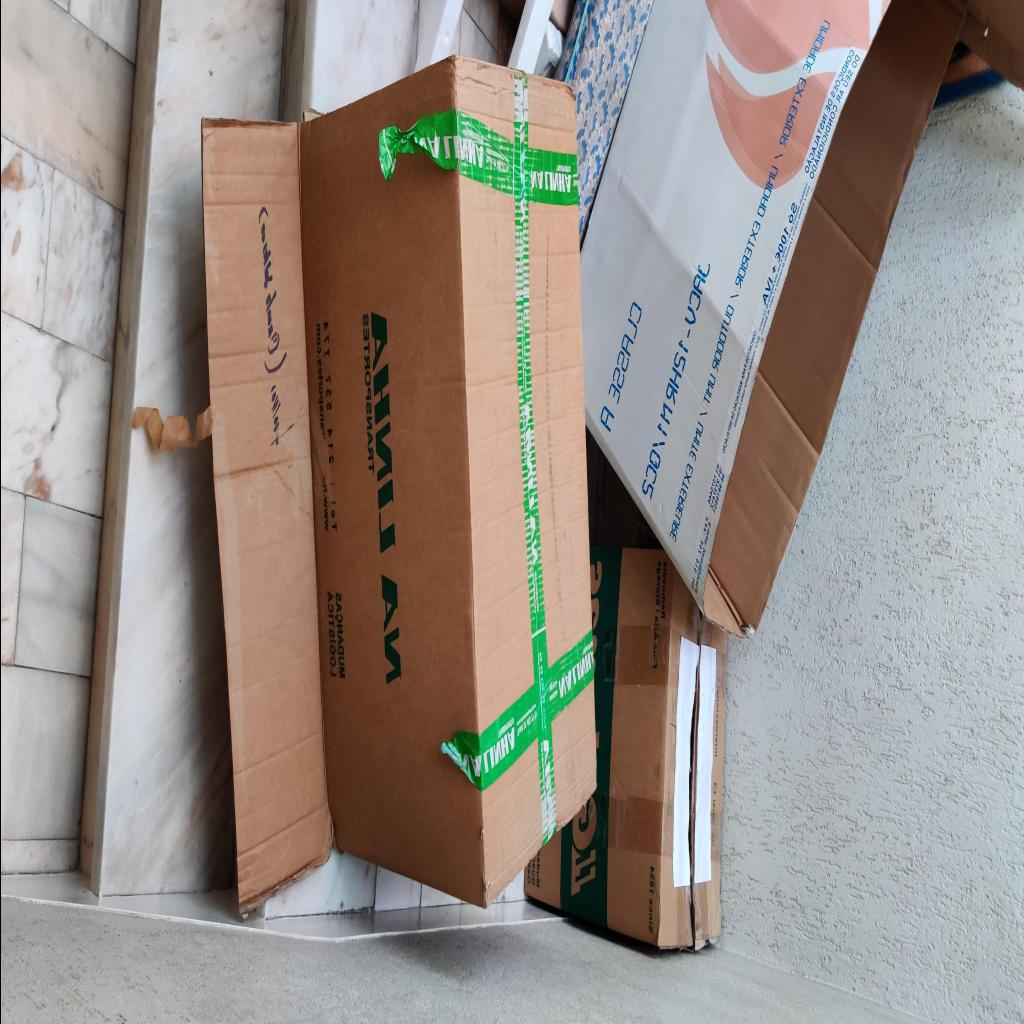Corrugated carton: (201, 55, 595, 915), (552, 1, 966, 638), (523, 546, 727, 950)
Styrofoam piece: (506, 2, 554, 76), (532, 22, 562, 80)
